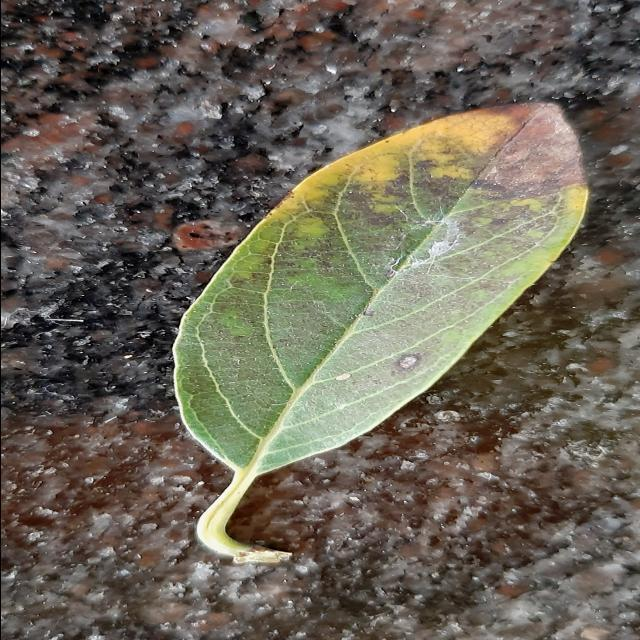leaf: (171, 99, 589, 564)
